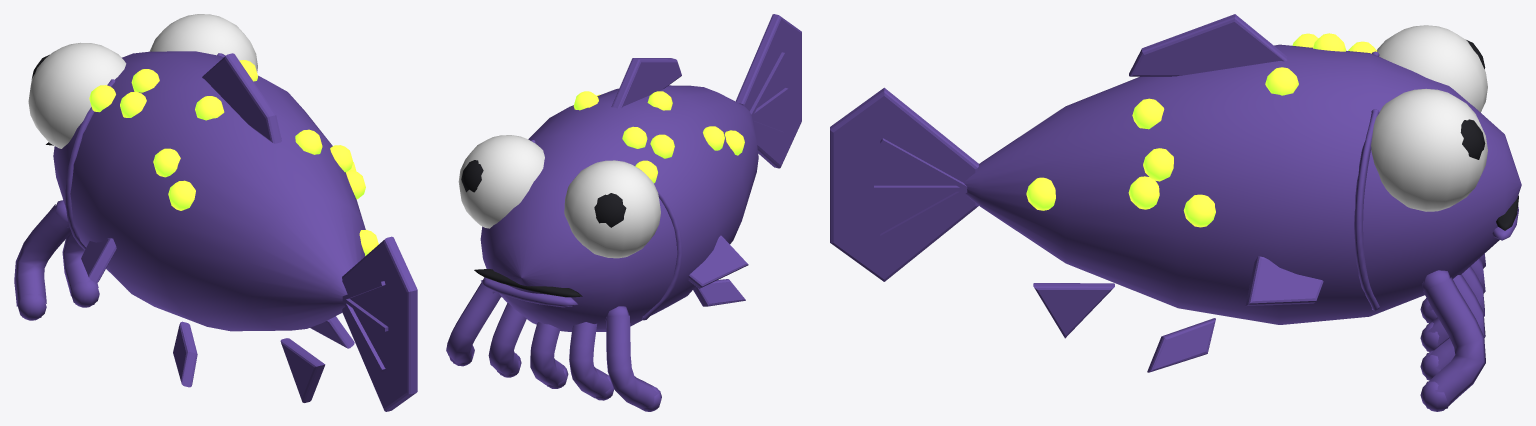
The model's file is FISH_MUTANTHATCHLING.glb.
3 views of the same model, side by side, from view 1: azimuth 30°, elevation 25°; view 2: azimuth 150°, elevation 25°; view 3: azimuth 270°, elevation 25° (orthographic). The views are drawn at different scales.
Visible parts, largest first — view 1: MutantPurple, EyeWhite, Glow; view 2: MutantPurple, EyeWhite, Glow, Eye; view 3: MutantPurple, EyeWhite, Glow, Eye.
Part boxes in pixels (x1,y1,x2,y2): MutantPurple: [14, 51, 417, 411]; EyeWhite: [28, 14, 257, 148]; Glow: [89, 60, 378, 255]; MutantPurple: [446, 14, 801, 411]; EyeWhite: [458, 135, 660, 258]; Glow: [573, 91, 744, 183]; Eye: [461, 160, 626, 297]; MutantPurple: [830, 14, 1521, 411]; EyeWhite: [1371, 25, 1487, 211]; Glow: [1026, 33, 1376, 227]; Eye: [1460, 40, 1518, 230].
Size of the model in its own units: 3.2 by 3.5 by 6.49.
